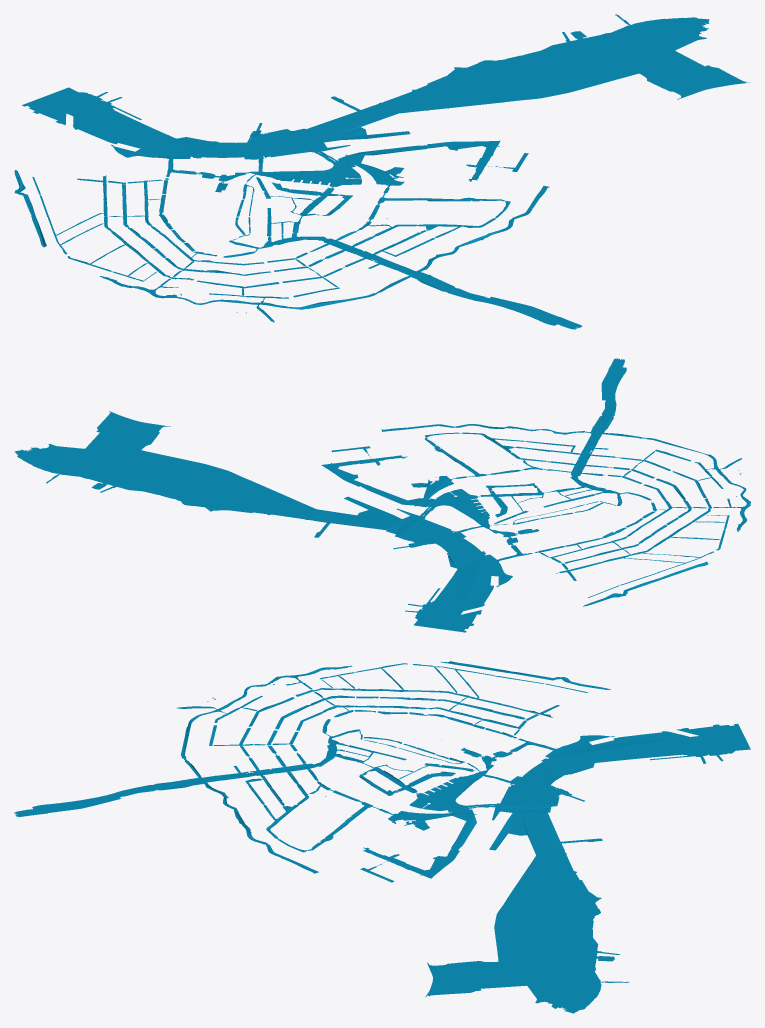
File: water.glb
3 views of the same model, one above another, from view 1: azimuth 30°, elevation 25°; view 2: azimuth 150°, elevation 25°; view 3: azimuth 270°, elevation 25° (orthographic). The views are drawn at different scales.
Visible parts, largest first — view 1: water; view 2: water; view 3: water.
Part boxes in pixels (bbox=[...]): water: bbox=[14, 14, 750, 329]; water: bbox=[14, 358, 750, 632]; water: bbox=[14, 661, 750, 1013].
Size of the model in its own units: 5856 by 30.74 by 5182.
